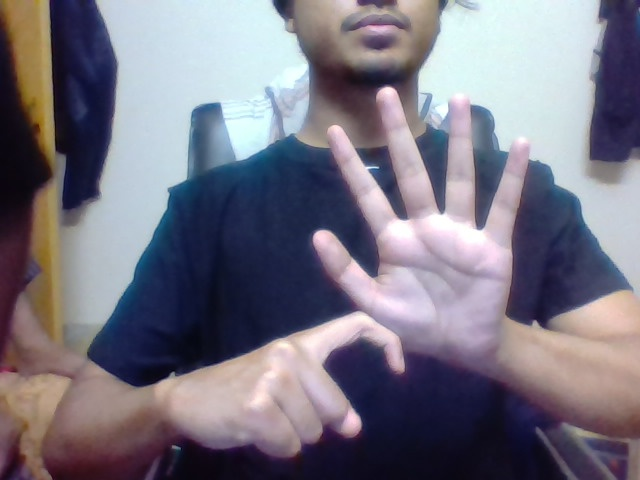R: (289, 312, 407, 437)
